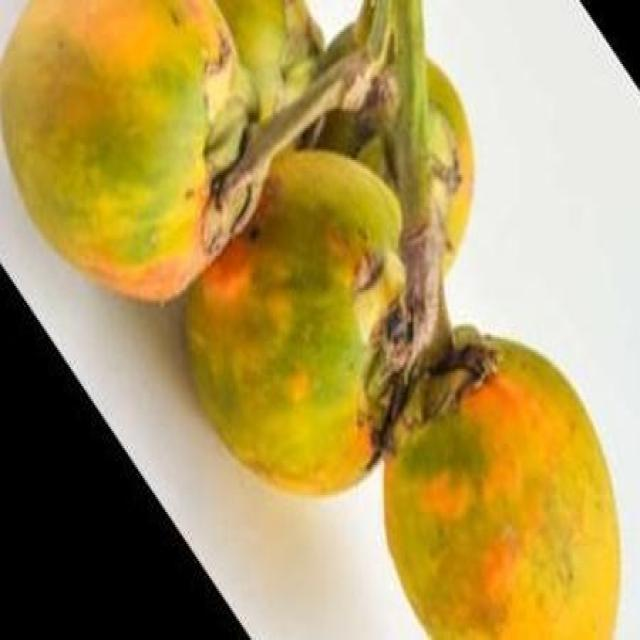good: (0, 0, 390, 307), (183, 149, 417, 501), (381, 333, 623, 638)
